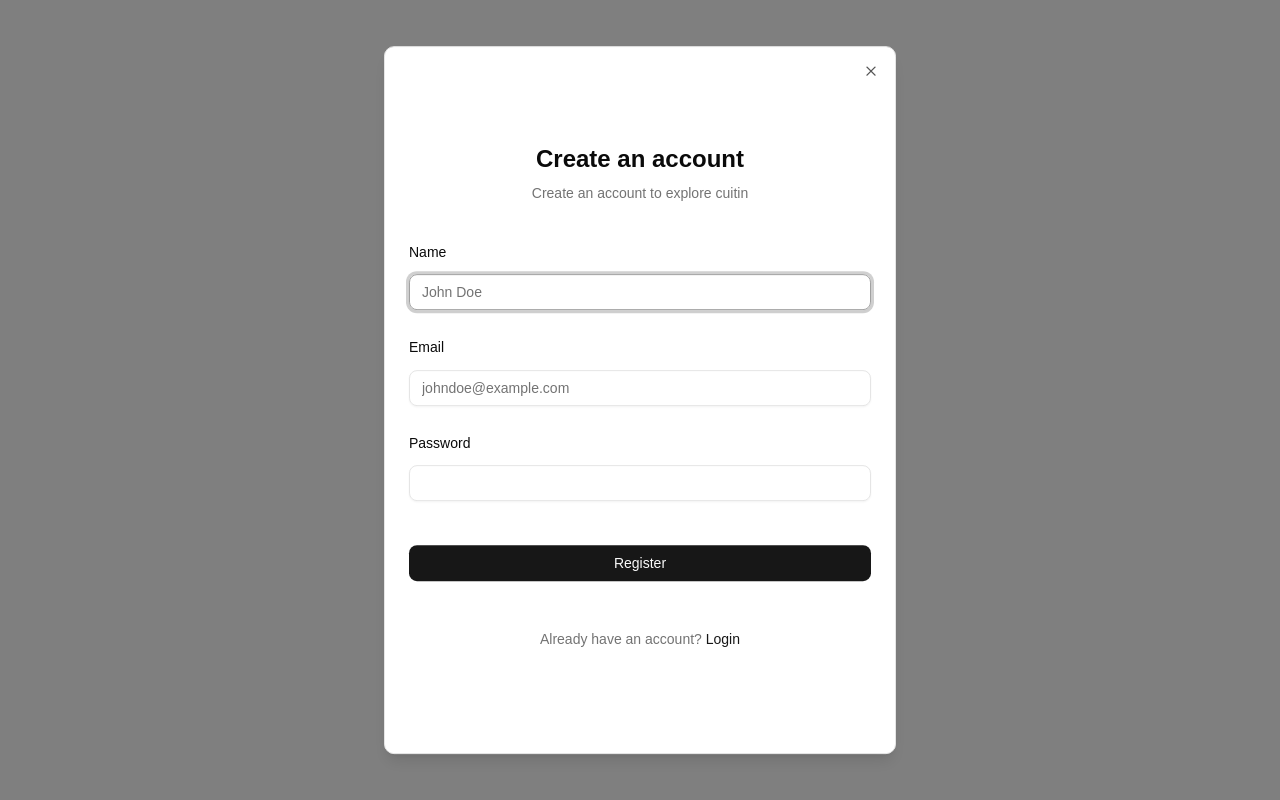
LoginForm component › should show error when email is invalid
Type "john#example.com" into the field with placeholder "johndoe@example.com" at (640,388), box [409,370,871,406]
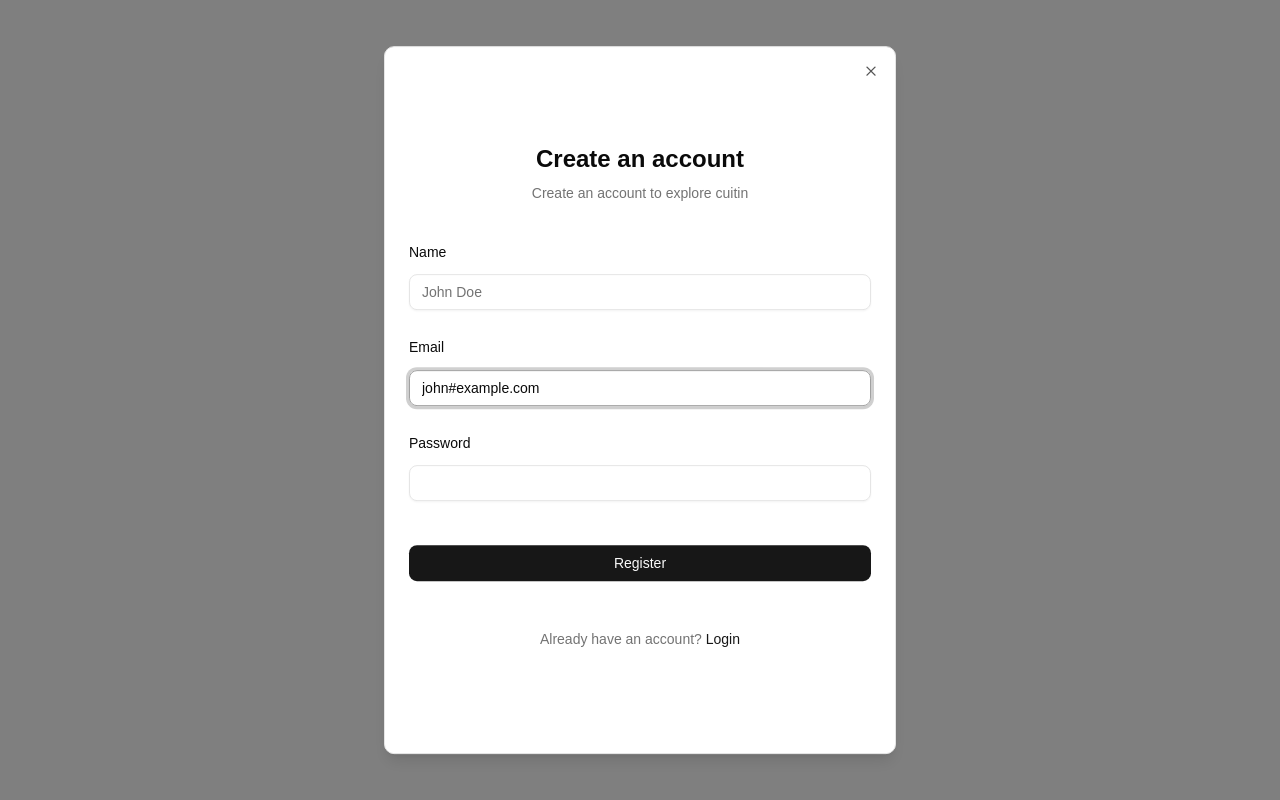
Click the button "Register" at (640,563), box [409,545,871,581]
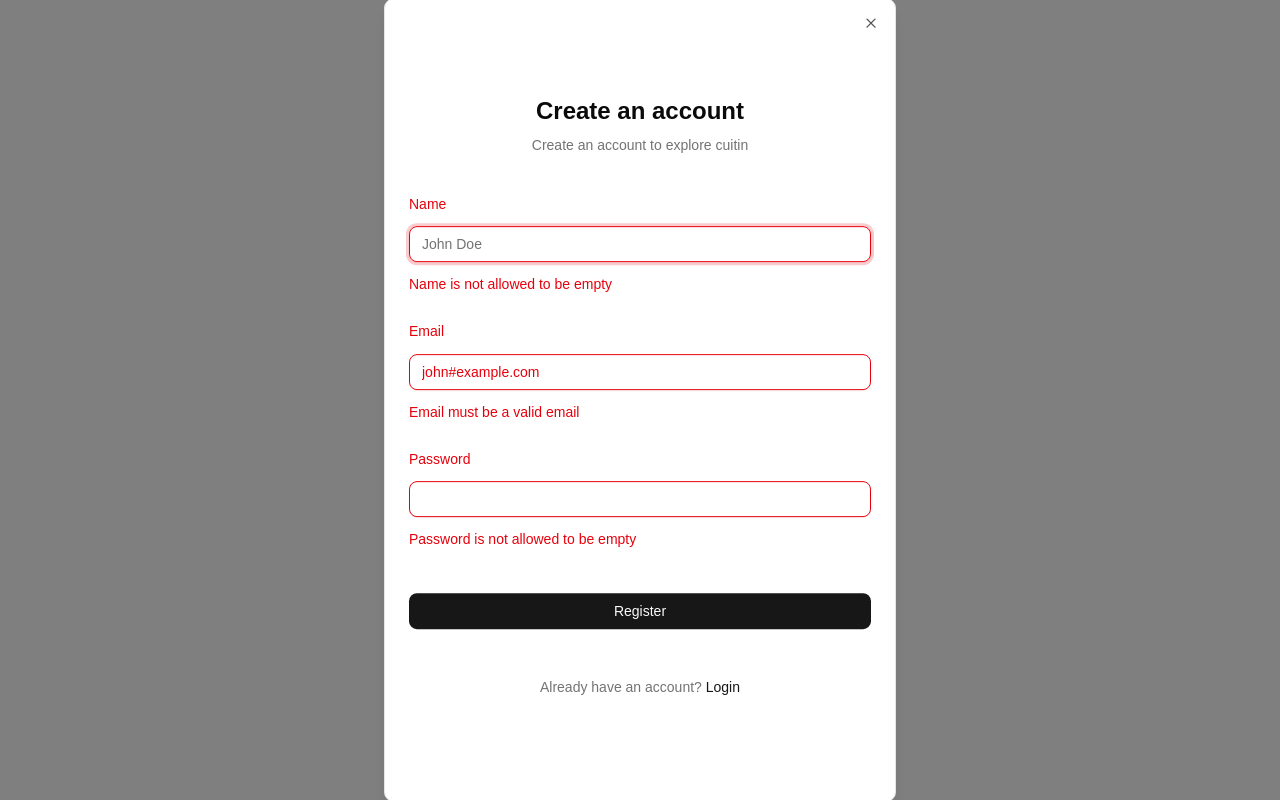
Expected: the text "Email must be a valid email" is shown, [409,404,579,420]
